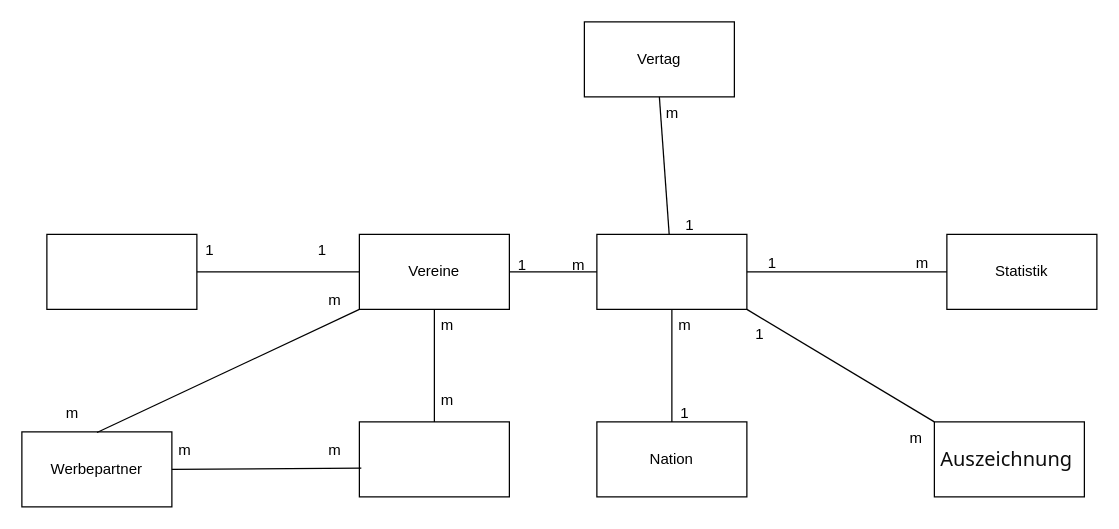
Some shapes in this 1119 by 529 pixel diagram are drawn without their labels. Here are the shapes that lost their labels. From the top down, the box of each, then its label:
(46, 233, 197, 309): Trainer
(596, 233, 747, 309): Spieler
(358, 421, 509, 497): Wettbewerb
